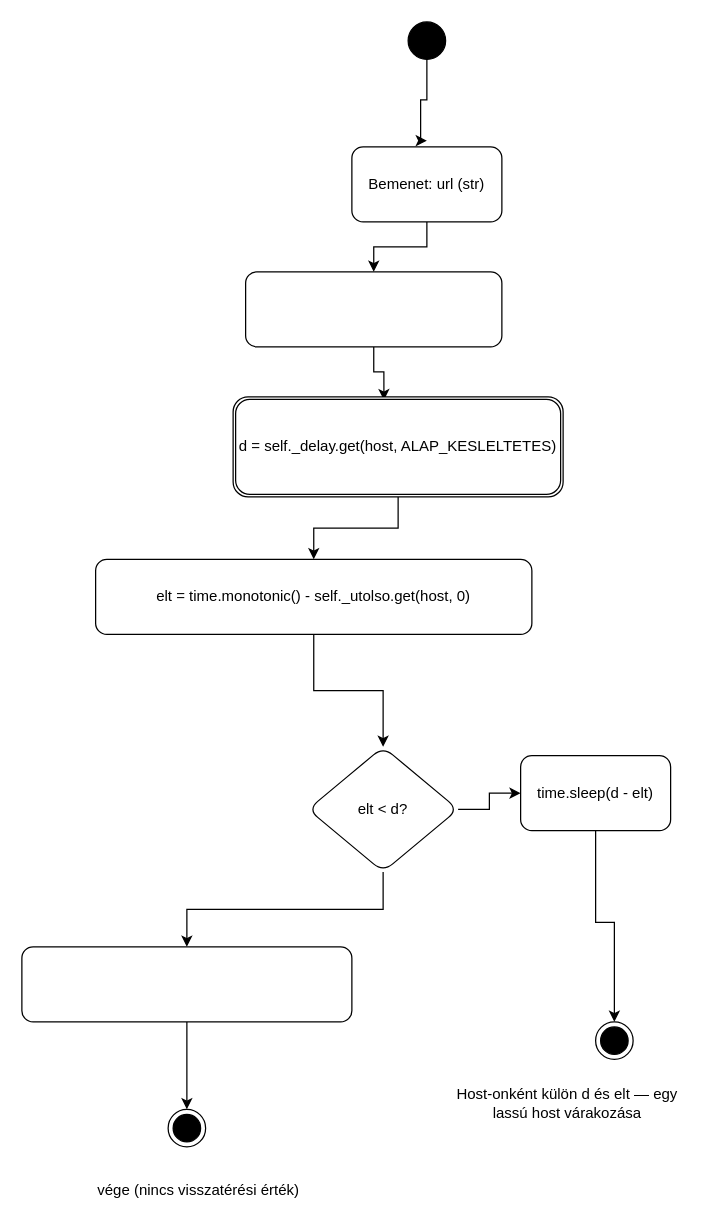
The diagram is 718 pixels wide and 1231 high, and some of its shapes have lost their labels. Here are the shapes that lost their labels. From the top down, the box of each, then its label:
(244, 271, 502, 347): host = urlparse(url).netloc
(21, 946, 352, 1022): self._utolso[host] = time.monotonic()
